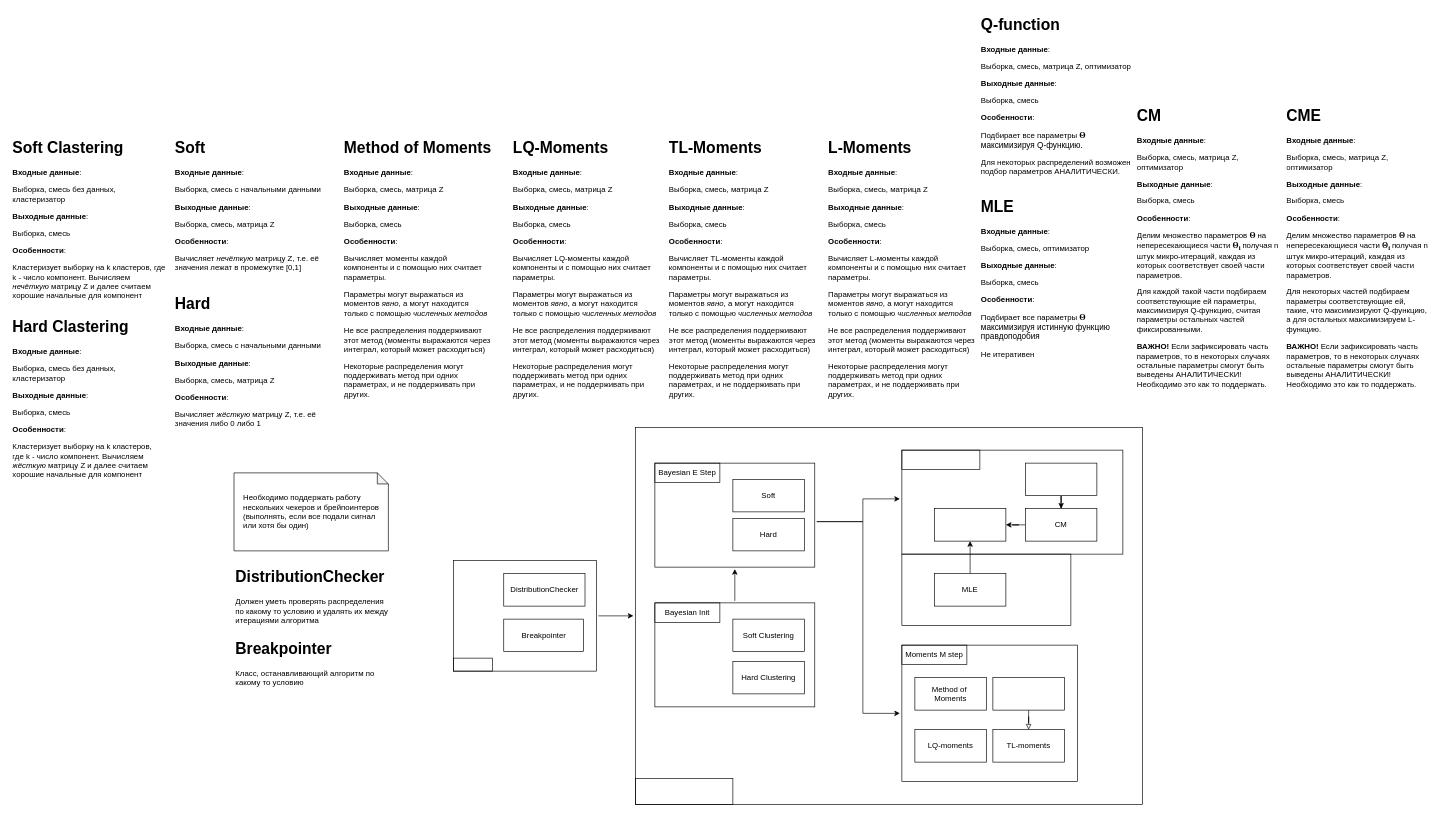
Some shapes in this 1439 by 816 pixel diagram are drawn without their labels. Here are the shapes that lost their labels. From the top down, the centre of each, then its label:
At [940,459]: "Maximization M step".
At [1061,479]: "Q-function".
At [970,524]: "CME".
At [472,664]: "Utils".
At [1028,693]: "L-moments".
At [684,791]: "Algorithm".
